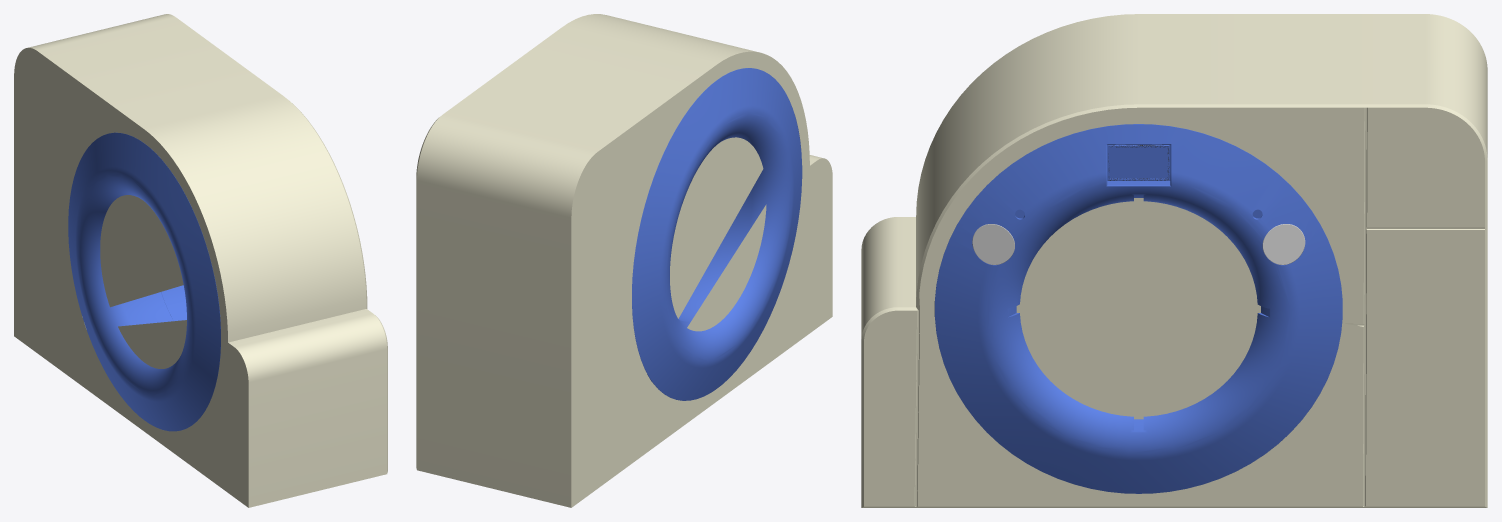
File: tuba.fbx
3 views of the same model, side by side, from view 1: azimuth 30°, elevation 25°; view 2: azimuth 150°, elevation 25°; view 3: azimuth 270°, elevation 25° (orthographic). The views are drawn at different scales.
Visible parts, largest first — view 1: Cube.001, Cube; view 2: Cube.001, Cube; view 3: Cube.001, Cube, Cube.003.
Boxes of the visible parts, <box> form: Cube.001: <box>14,14,387,507</box>; Cube: <box>68,132,220,431</box>; Cube.001: <box>416,14,832,507</box>; Cube: <box>632,68,802,400</box>; Cube.001: <box>861,14,1487,507</box>; Cube: <box>934,124,1342,493</box>; Cube.003: <box>972,224,1305,264</box>.
Size of the model in its own units: 111 by 200 by 281.
